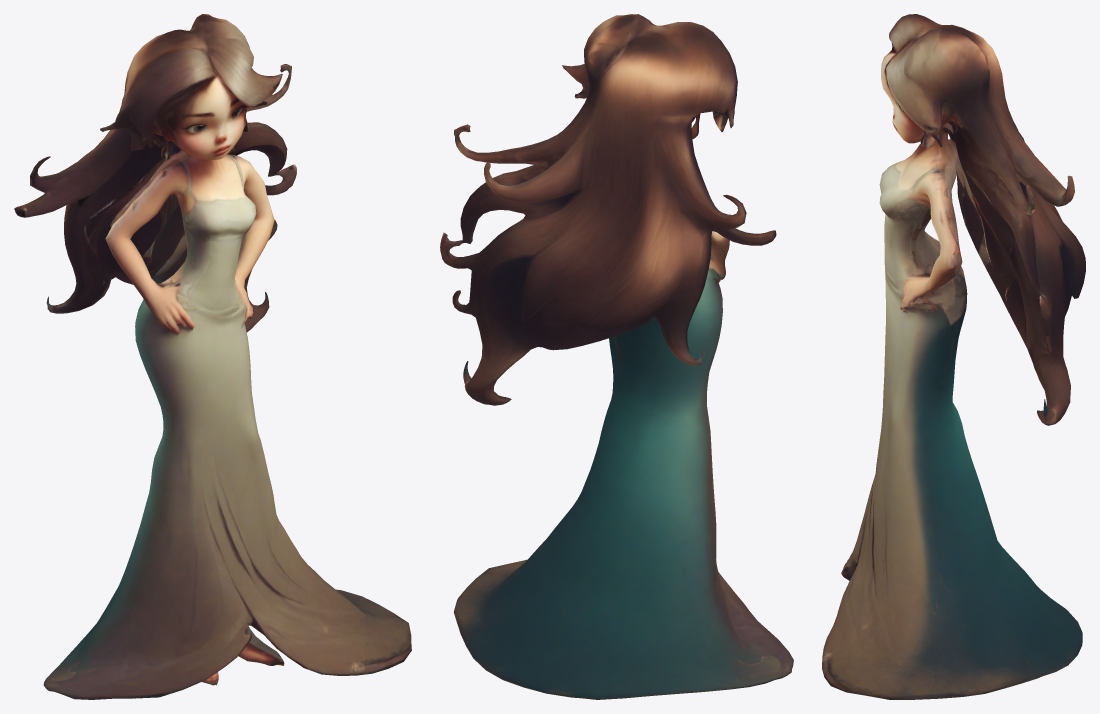
Rendered from perfectionist.glb.
The picture shows the model from 3 angles, left to right: view 1: azimuth 30°, elevation 25°; view 2: azimuth 150°, elevation 25°; view 3: azimuth 270°, elevation 25°; orthographic projection. The views are drawn at different scales.
Parts seen in each view (by area): view 1: Mesh_0.008_Material.001_0; view 2: Mesh_0.008_Material.001_0; view 3: Mesh_0.008_Material.001_0.
Boxes of the visible parts, left/top/right/bottom form: Mesh_0.008_Material.001_0: left=14, top=14, right=411, bottom=699; Mesh_0.008_Material.001_0: left=440, top=14, right=793, bottom=699; Mesh_0.008_Material.001_0: left=822, top=14, right=1085, bottom=699.
Size of the model in its own units: 1.12 by 1.99 by 0.7927.
1 material, 1 textured.
